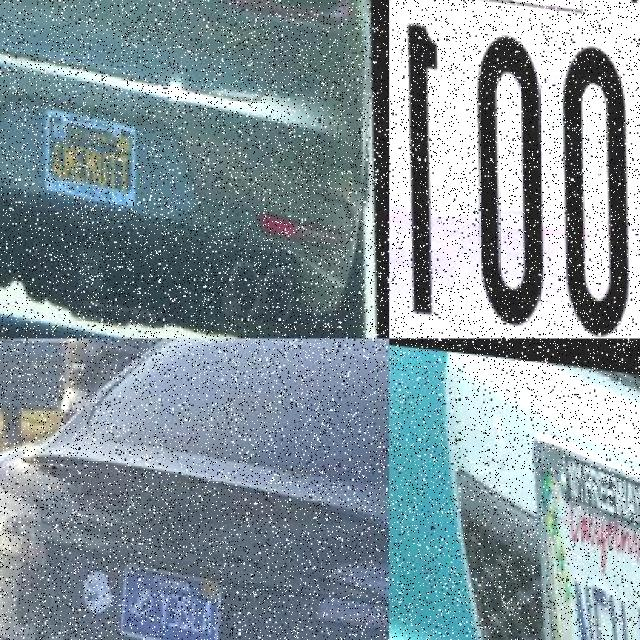licenseplate: (392, 0, 639, 338), (523, 429, 640, 640), (38, 102, 136, 200), (116, 555, 222, 640)
